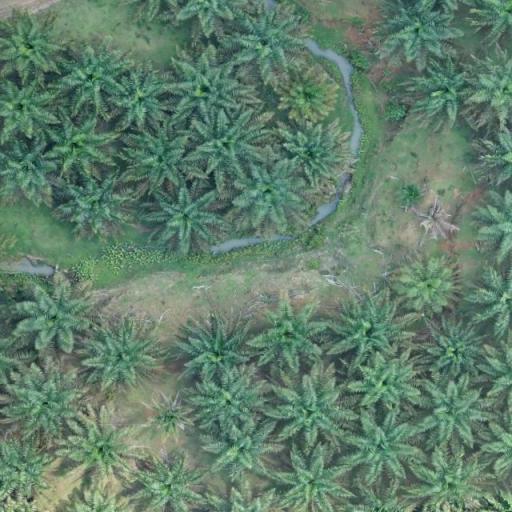Ganoderma: (419, 209, 452, 238)
